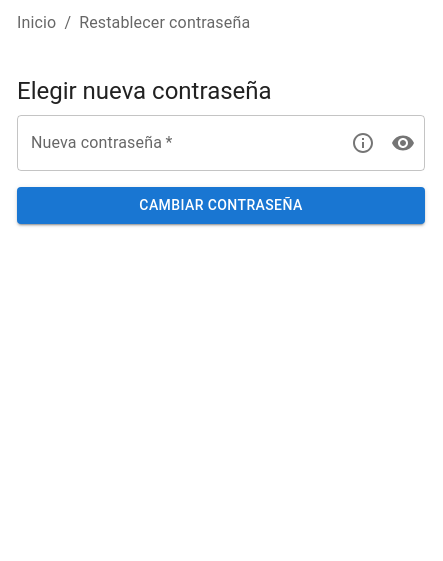
Scenario: RestablecerPasswordForm (RF-38) › no envía una contraseña débil y abre los requisitos para decir qué falta (SEC-01)
Expected: the list "tu contraseña necesita" is not shown
In the password field labelled "Nueva contraseña *": (176, 143) [17,115,335,171], type "Test1234!"
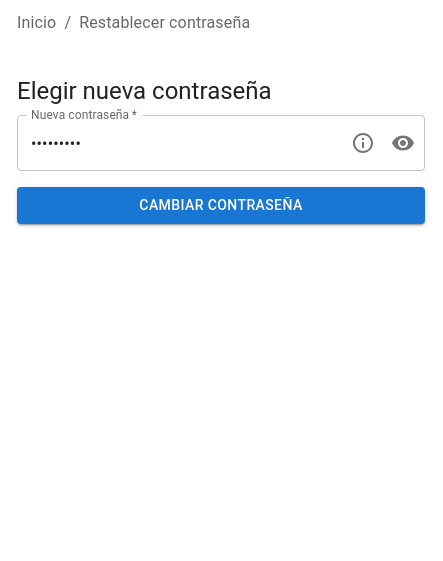
Click the button "Cambiar contraseña": click(221, 206) [17,187,425,224]
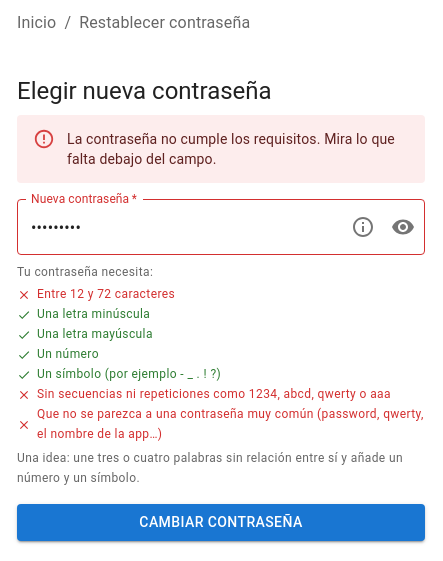
Expected: the text "no cumple los requisitos" is shown, [67,131,395,167]
Expected: the list named "tu contraseña necesita" is shown, [17,285,425,445]
